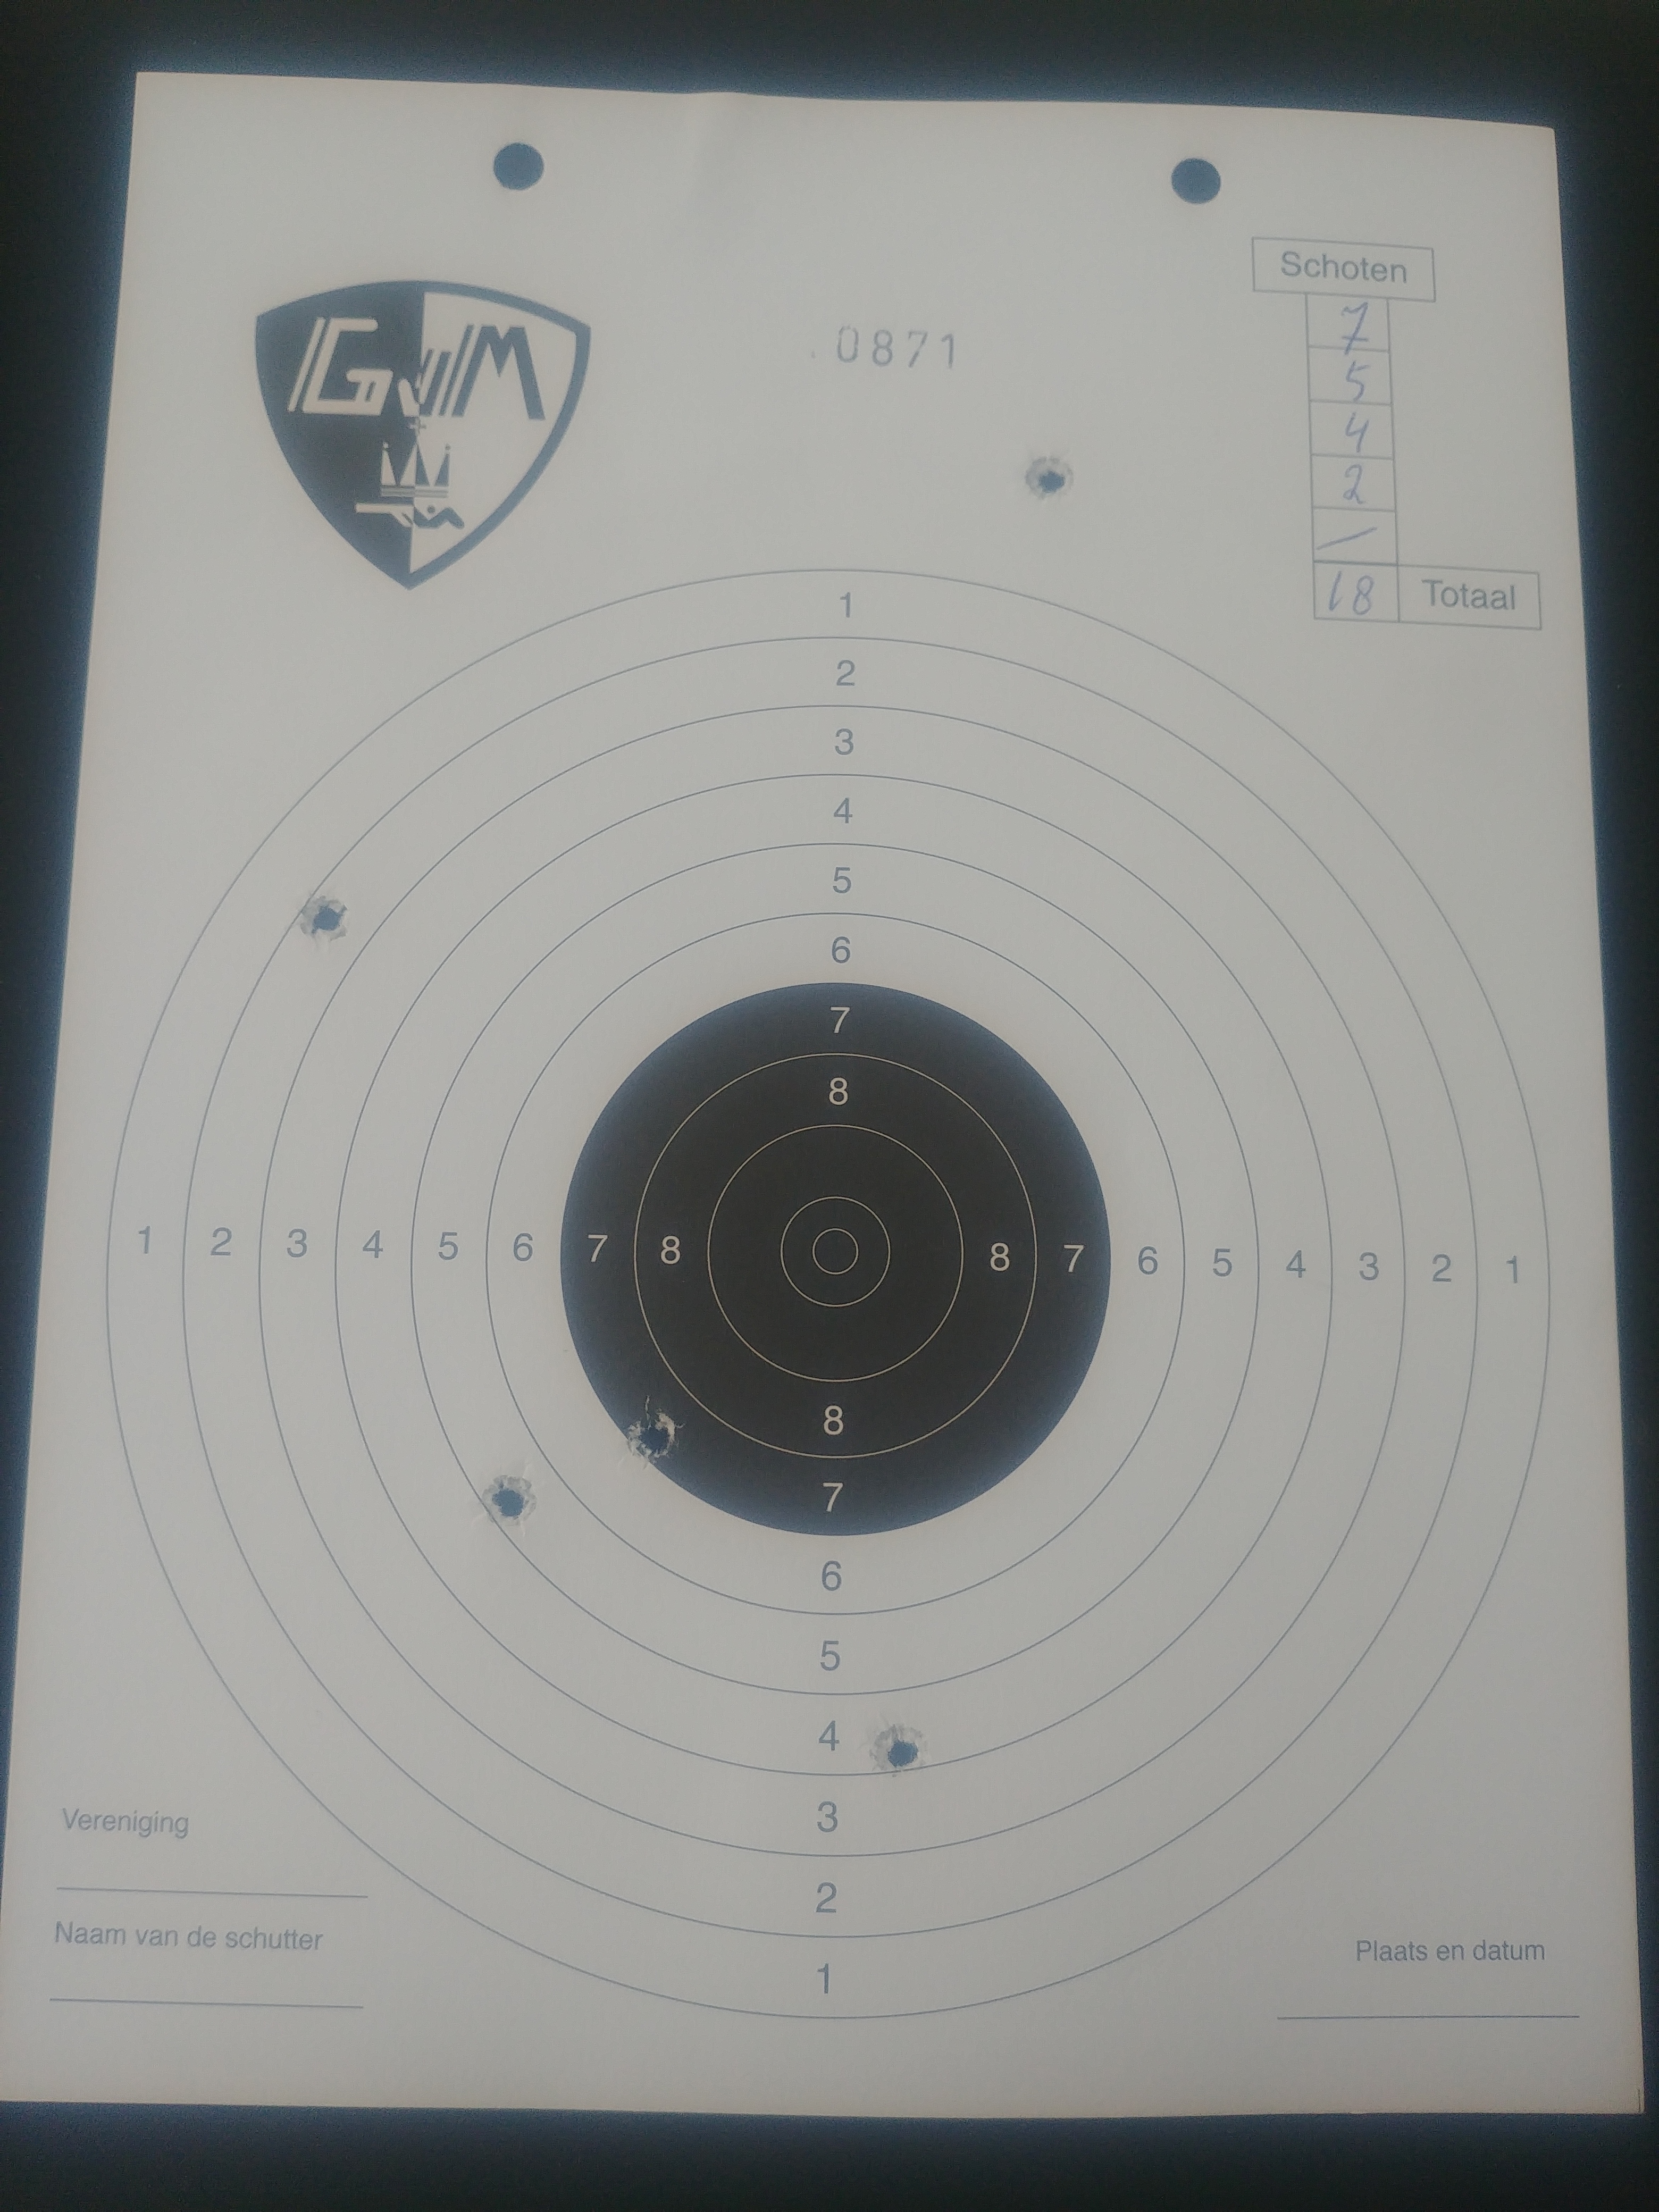center: (559, 982, 1112, 1538)
out: (103, 566, 1553, 2019)
shot: (624, 1393, 688, 1470), (866, 1723, 931, 1778), (481, 1474, 538, 1527), (295, 895, 350, 944), (1025, 455, 1077, 502)
target: (779, 1195, 890, 1308)
